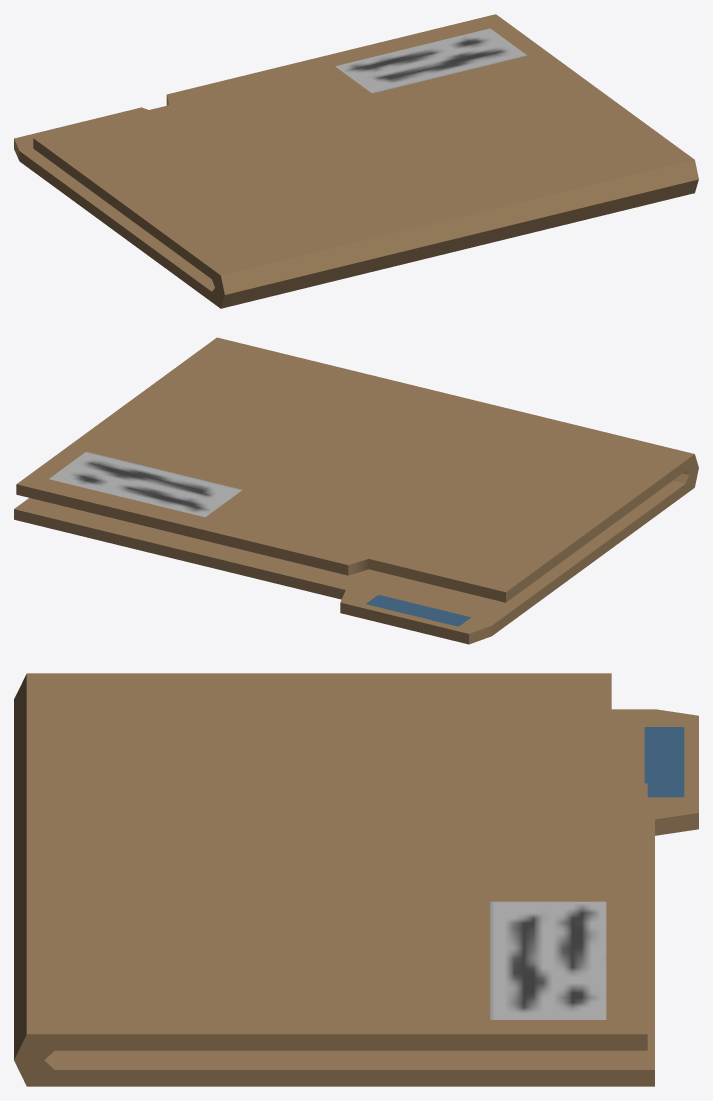
The model's file is SM_Prop_Folder_Manila_01.glb.
3 renders of one model, top to bottom at view 1: azimuth 30°, elevation 25°; view 2: azimuth 150°, elevation 25°; view 3: azimuth 270°, elevation 25°, orthographic. The views are drawn at different scales.
Visible parts, largest first — view 1: SM_Prop_Folder_Manila_01; view 2: SM_Prop_Folder_Manila_01; view 3: SM_Prop_Folder_Manila_01.
Part boxes in pixels (x1=…): SM_Prop_Folder_Manila_01: x1=14, y1=14, x2=698, y2=308; SM_Prop_Folder_Manila_01: x1=14, y1=337, x2=698, y2=644; SM_Prop_Folder_Manila_01: x1=14, y1=673, x2=698, y2=1086.
Size of the model in its own units: 0.3823 by 0.0257 by 0.3066.
1 material, 1 textured.
